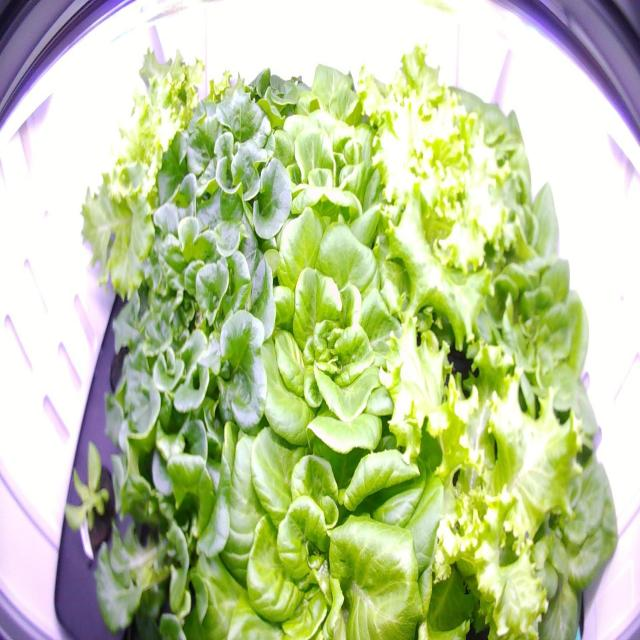Ready: (186, 388, 467, 639), (227, 200, 437, 465), (248, 105, 401, 258), (256, 49, 382, 166)
young: (466, 410, 626, 640), (447, 242, 596, 418), (435, 128, 573, 288), (413, 72, 528, 196), (54, 430, 128, 567)
